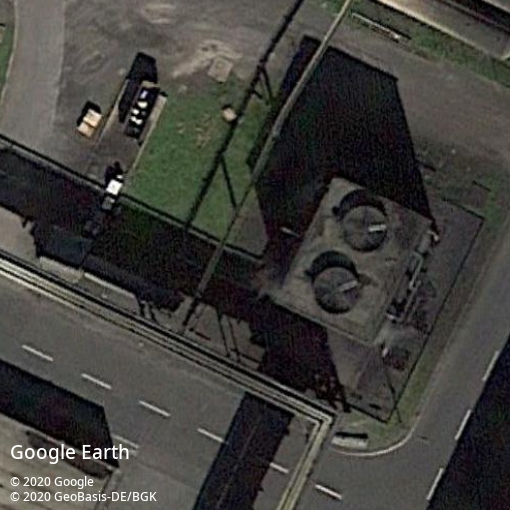Vent: (341, 205, 390, 254), (313, 268, 361, 316)
